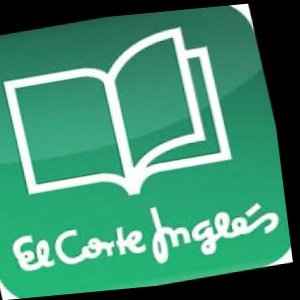corte_ingles: (250, 92, 294, 274)
